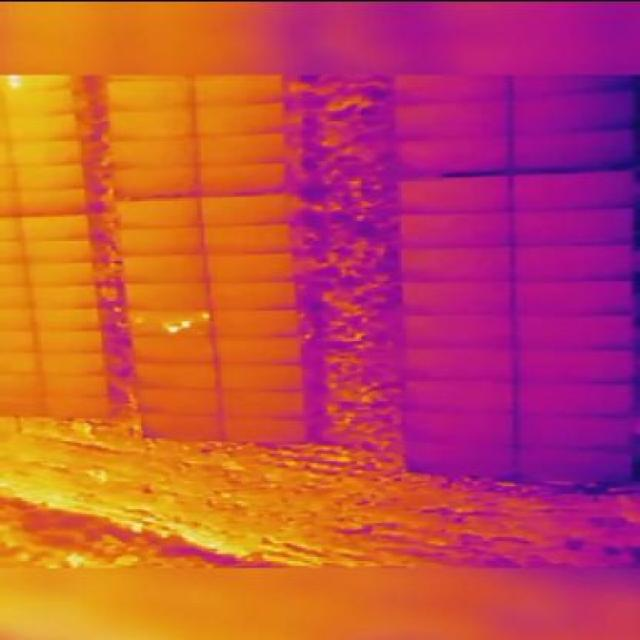hotspot: (165, 324, 181, 336), (182, 318, 192, 327), (202, 310, 210, 318)
